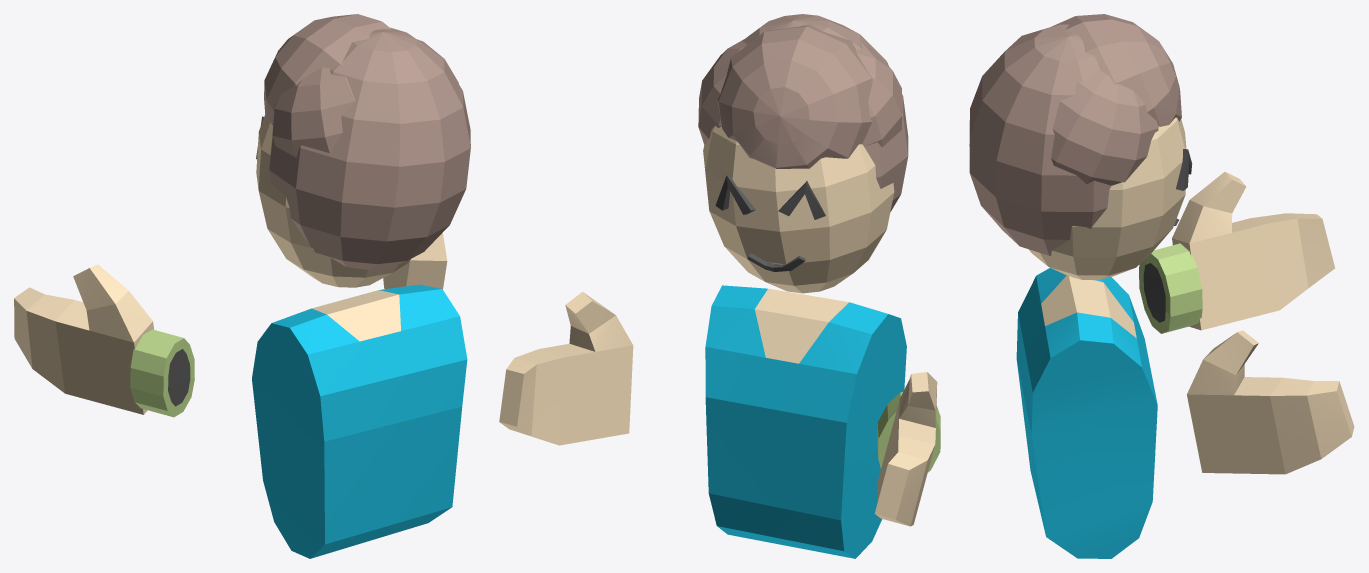
The model's file is aquy.dae.
3 views of the same model, side by side, from view 1: azimuth 30°, elevation 25°; view 2: azimuth 150°, elevation 25°; view 3: azimuth 270°, elevation 25° (orthographic).
Visible parts, largest first — view 1: group6535118, group645294229, group965422709, group1753290713, group96368598, group1417303053, group1631270626; view 2: group6535118, group1417303053, group96368598, group1631270626, group965422709, group645294229, group1753290713, group1612658291, group265068295, group944657285; view 3: group6535118, group645294229, group965422709, group1631270626, group1417303053, group1612658291, group96368598.
Part boxes in pixels (<box>): group6535118: <box>252,284,467,558</box>; group645294229: <box>269,27,470,270</box>; group965422709: <box>14,264,194,417</box>; group1753290713: <box>272,67,355,157</box>; group96368598: <box>264,14,391,125</box>; group1417303053: <box>256,114,410,287</box>; group1631270626: <box>383,232,447,289</box>; group6535118: <box>705,285,906,558</box>; group1417303053: <box>703,125,894,293</box>; group96368598: <box>717,24,872,168</box>; group1631270626: <box>499,292,633,445</box>; group965422709: <box>874,372,940,526</box>; group645294229: <box>743,14,908,211</box>; group1753290713: <box>856,42,901,147</box>; group1612658291: <box>698,38,747,145</box>; group265068295: <box>715,174,755,214</box>; group944657285: <box>778,181,825,219</box>; group6535118: <box>1016,268,1157,558</box>; group645294229: <box>969,24,1111,255</box>; group965422709: <box>1139,172,1335,333</box>; group1631270626: <box>1187,330,1354,474</box>; group1417303053: <box>1029,117,1186,280</box>; group1612658291: <box>1051,70,1158,185</box>; group96368598: <box>1051,14,1181,126</box>.
Bounding box in the file's own units: 0.3804 × 0.3193 × 0.4634.
